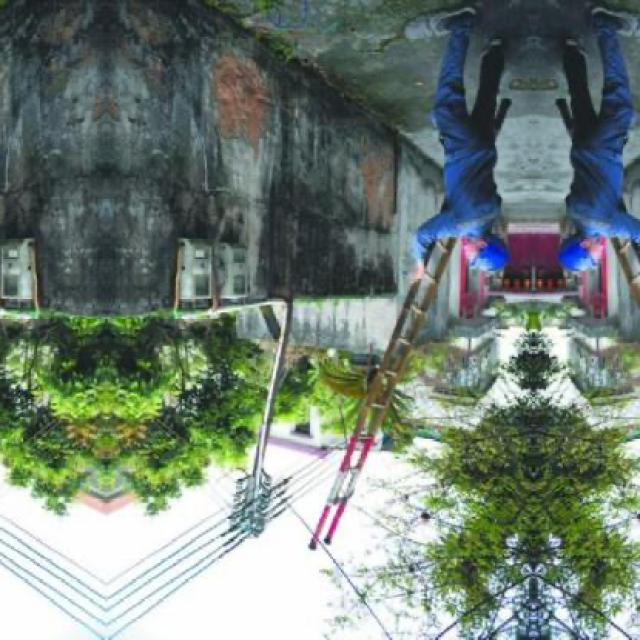con casco: (448, 214, 551, 282), (550, 232, 639, 282)
